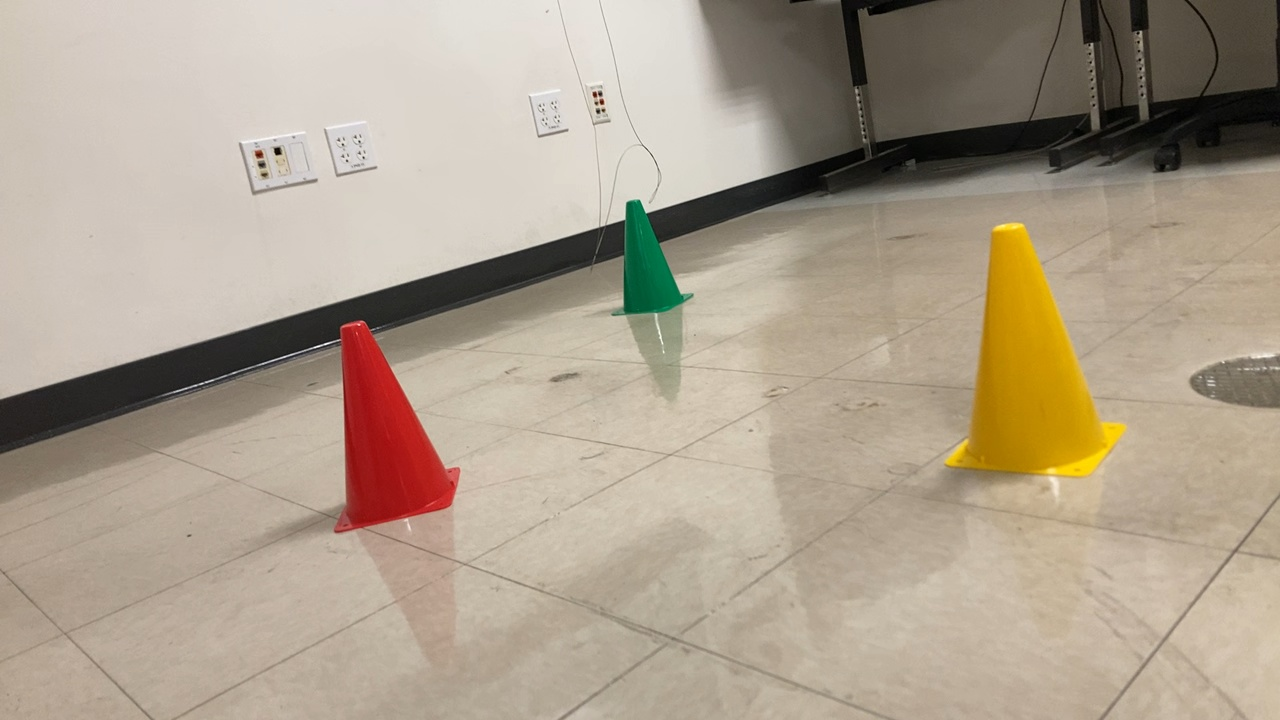green_cone: (611, 195, 695, 323)
red_cone: (325, 310, 468, 540)
yellow_cone: (937, 212, 1136, 489)
